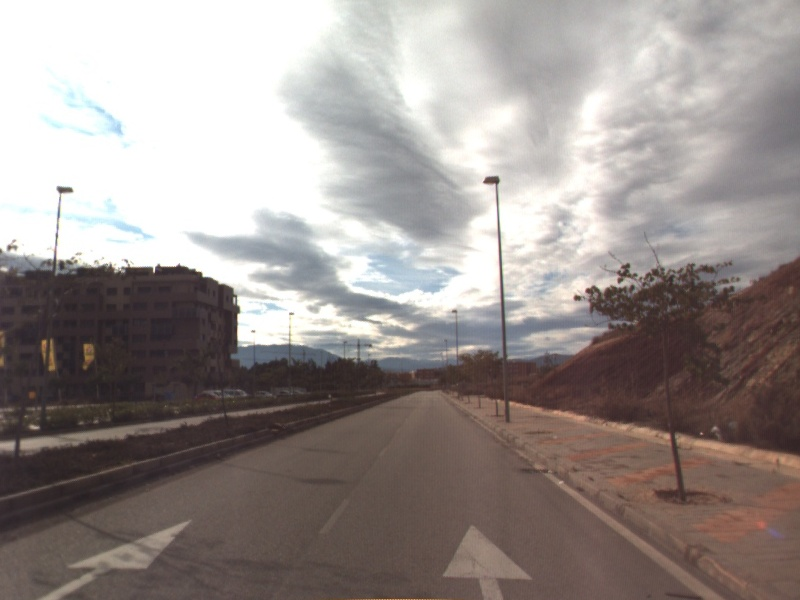STRAIGHT: (27, 516, 196, 600), (438, 520, 536, 600)
